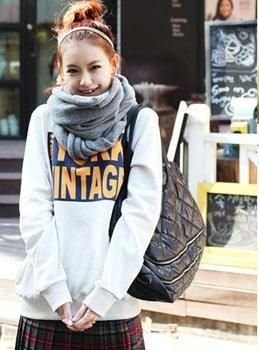face: (61, 38, 110, 105)
face_mask: (219, 1, 230, 15)
